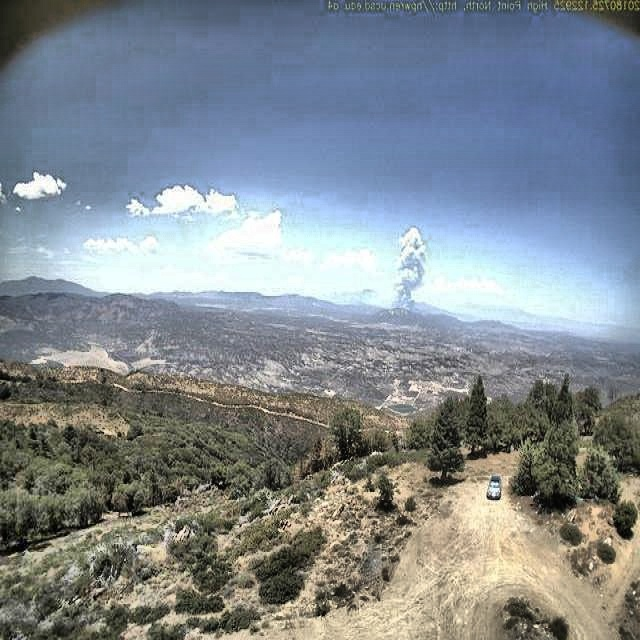smoke: (386, 222, 431, 318)
